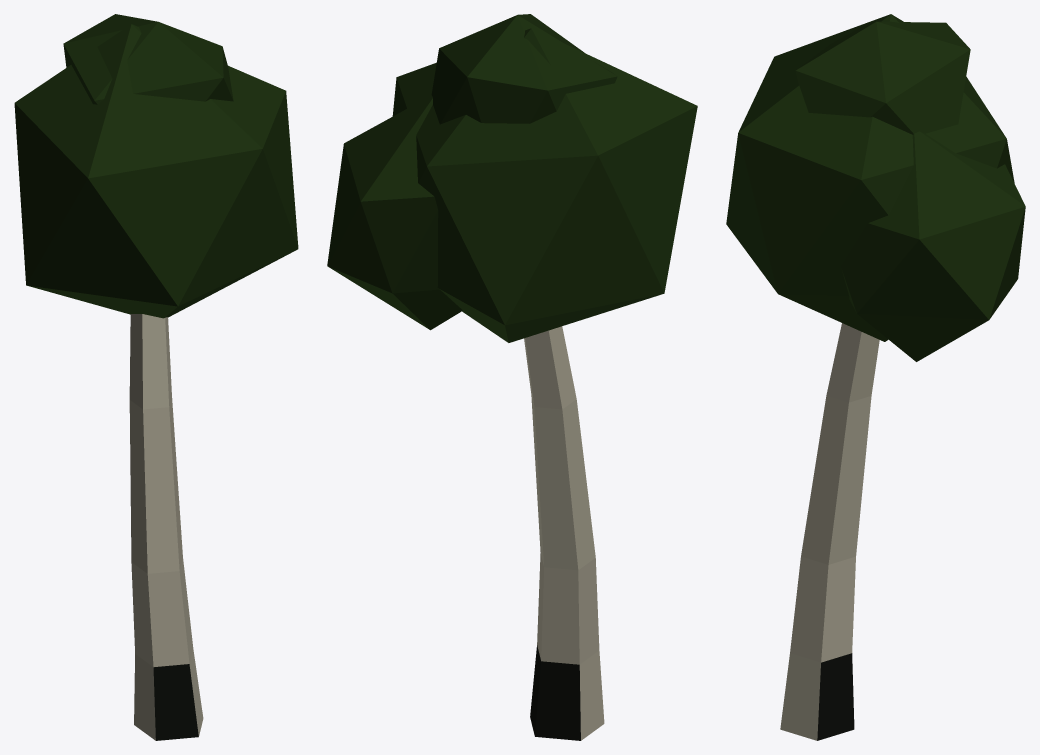
The model's file is SM_Tree_Birch_01_LOD1.fbx.
3 views of the same model, side by side, from view 1: azimuth 30°, elevation 25°; view 2: azimuth 150°, elevation 25°; view 3: azimuth 270°, elevation 25° (orthographic). The views are drawn at different scales.
Visible parts, largest first — view 1: SM_Tree_Birch_01_LOD1; view 2: SM_Tree_Birch_01_LOD1; view 3: SM_Tree_Birch_01_LOD1.
Boxes of the visible parts, x1,y1,x2,y2 form: SM_Tree_Birch_01_LOD1: (14, 14, 298, 740); SM_Tree_Birch_01_LOD1: (327, 14, 697, 740); SM_Tree_Birch_01_LOD1: (726, 14, 1025, 740).
Bounding box in the file's own units: 89.74 × 211 × 80.63.
